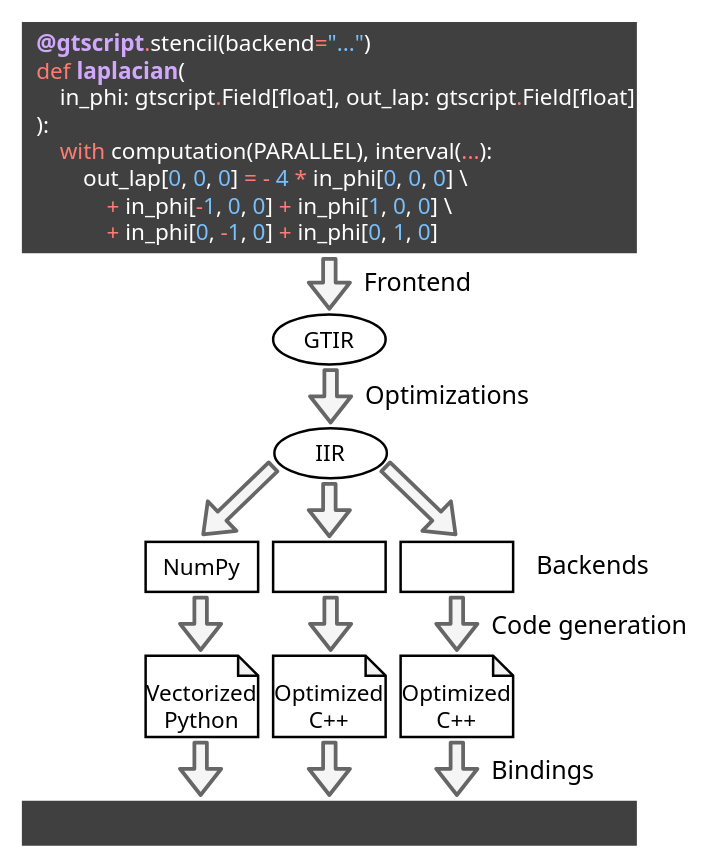
The diagram is 709 pixels wide and 866 high, and some of its shapes have lost their labels. The shapes that lost their labels are listed below. From the top down, each one's centre as x and y in pixels, then its label:
the point at 328,566: GridTools
the point at 456,566: DaCe
the point at 328,822: laplacian(phi , lap , origin = ( 1 , 1 , 0 ) , domain = (nx - 2 , ny - 2 , nz))
